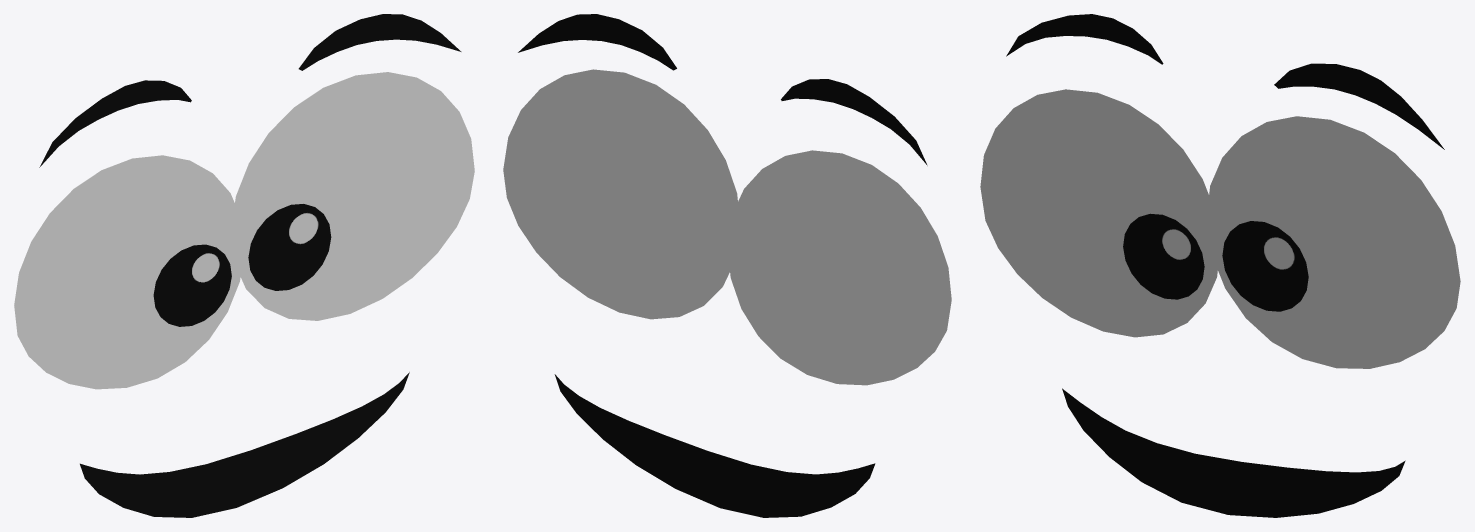
Rendered from NL_static.FBX.
3 views of the same model, side by side, from view 1: azimuth 30°, elevation 25°; view 2: azimuth 150°, elevation 25°; view 3: azimuth 330°, elevation 25° (orthographic). The views are drawn at different scales.
Parts seen in each view (by area): view 1: EYES, MOUTH; view 2: EYES, MOUTH; view 3: EYES, MOUTH.
Boxes of the visible parts, x1,y1,x2,y2 form: EYES: [14, 14, 474, 389]; MOUTH: [80, 372, 409, 517]; EYES: [503, 14, 951, 385]; MOUTH: [554, 374, 875, 517]; EYES: [980, 14, 1460, 368]; MOUTH: [1062, 388, 1405, 517].
Size of the model in its own units: 49.96 by 48.46 by 1.97.
